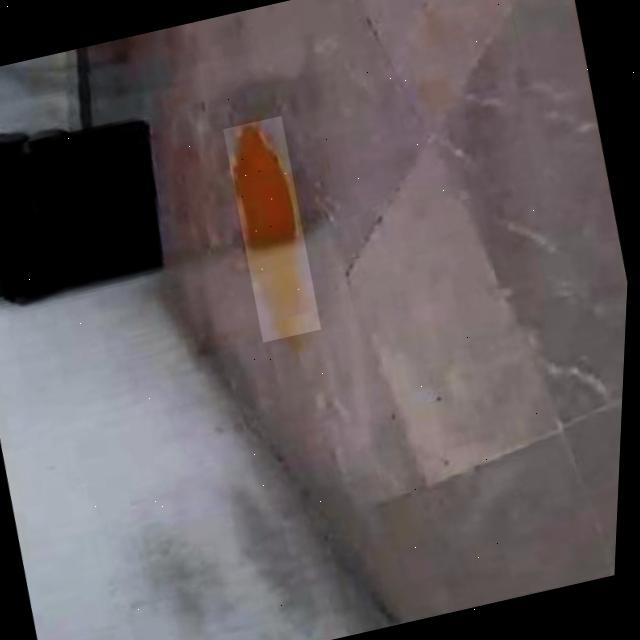spillage: (233, 120, 307, 337)
